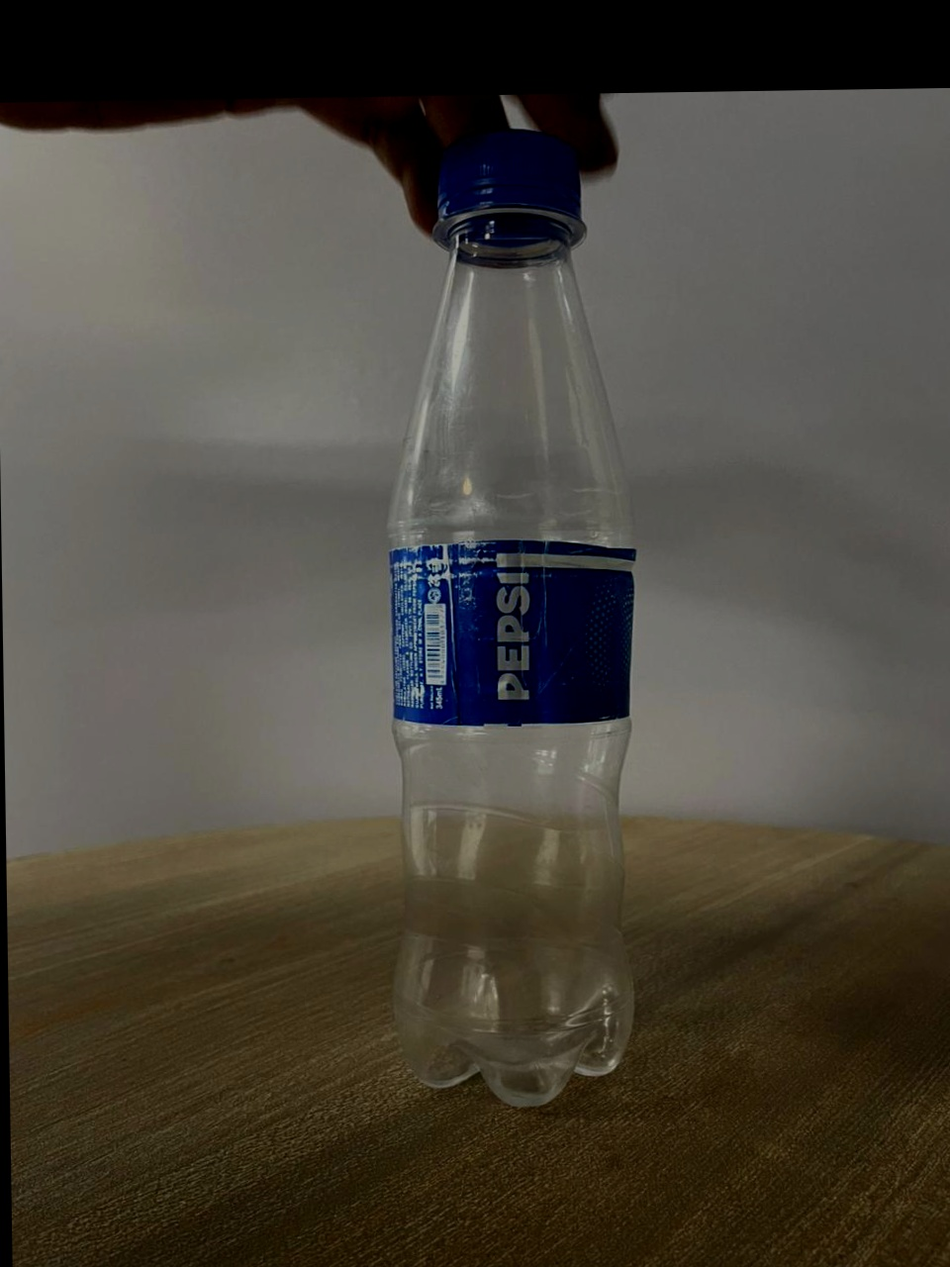Pepsi Bottle: (373, 116, 664, 1111), (376, 126, 662, 1111)
